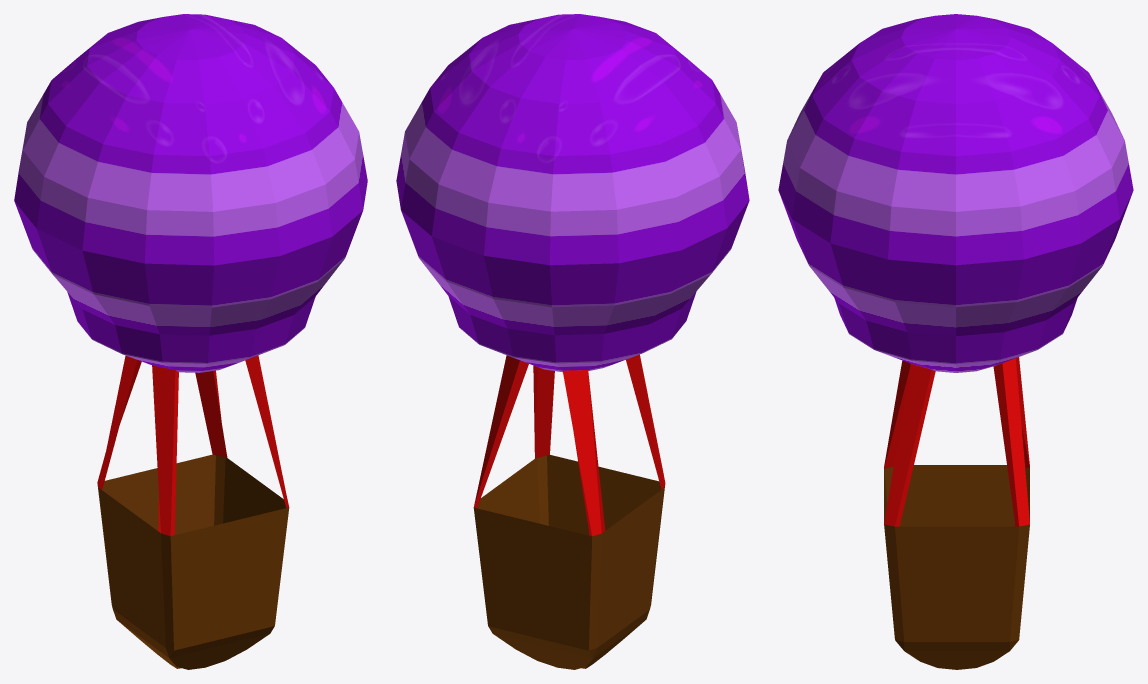
Rendered from 棒棒糖熱氣球2版.fbx.
The picture shows the model from 3 angles, left to right: view 1: azimuth 30°, elevation 25°; view 2: azimuth 150°, elevation 25°; view 3: azimuth 270°, elevation 25°; orthographic projection.
Parts seen in each view (by area): view 1: 球體; view 2: 球體; view 3: 球體.
Boxes of the visible parts, x1,y1,x2,y2 form: 球體: [14, 14, 367, 669]; 球體: [396, 14, 749, 669]; 球體: [778, 14, 1133, 669].
Bounding box in the file's own units: 730 × 730 × 1433.
